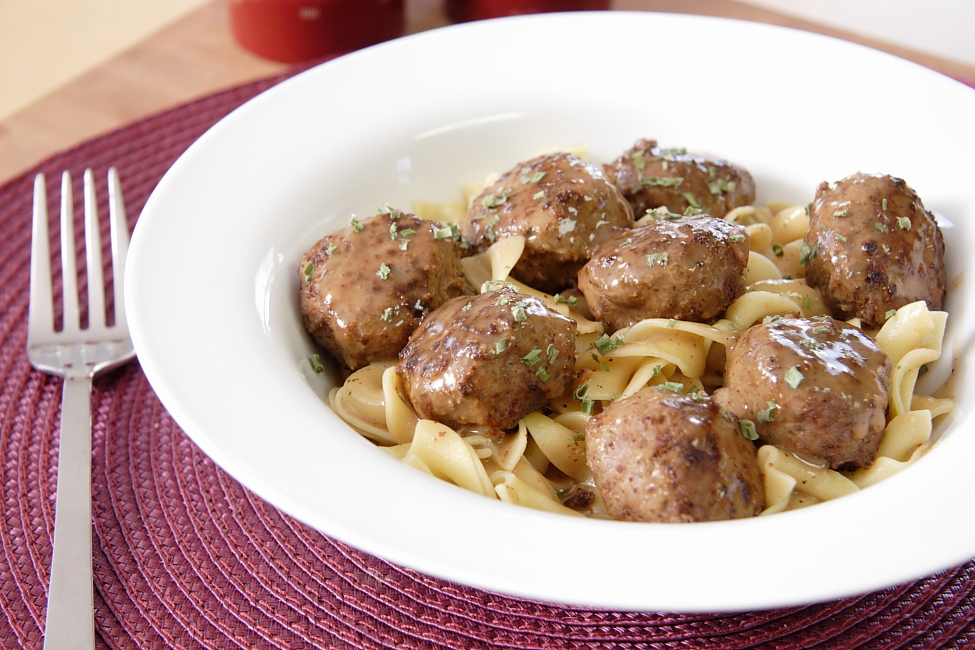meatballs: (727, 319, 895, 444), (300, 212, 450, 348), (403, 295, 567, 412), (808, 181, 947, 307), (592, 212, 750, 315), (470, 150, 622, 257), (623, 395, 750, 520), (603, 135, 745, 211)
plain spaghetti: (351, 395, 609, 517), (579, 326, 729, 393), (748, 194, 809, 323)
